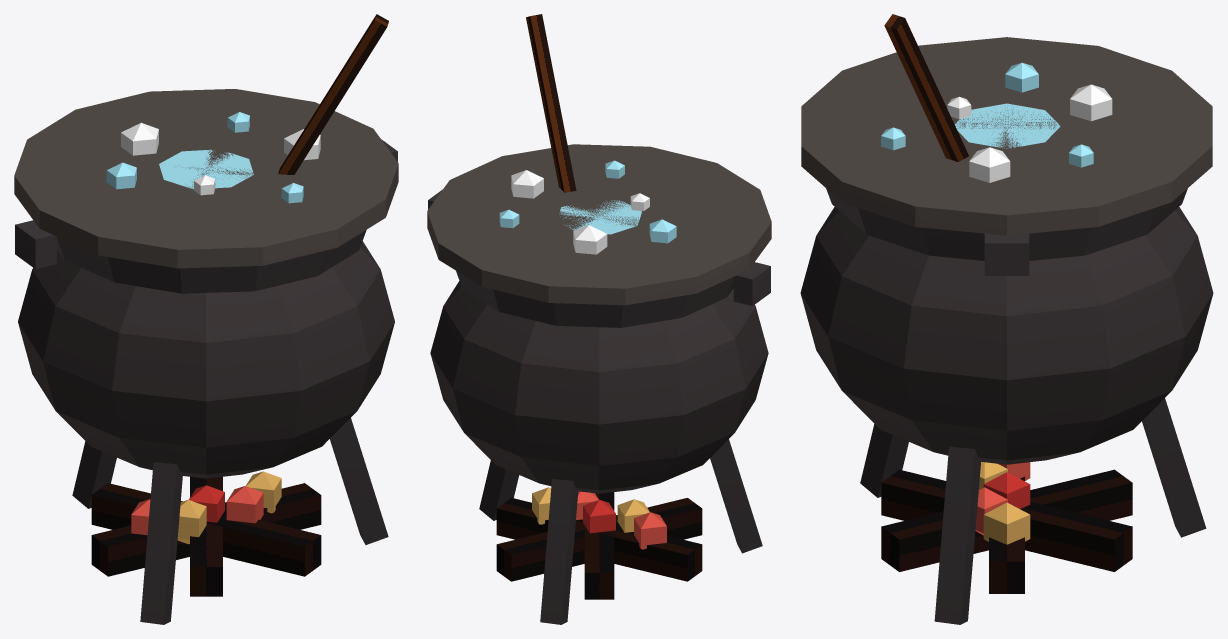
The model's file is cauldron_blue.glb.
The picture shows the model from 3 angles, left to right: view 1: azimuth 30°, elevation 25°; view 2: azimuth 150°, elevation 25°; view 3: azimuth 270°, elevation 25°; orthographic projection. The views are drawn at different scales.
Visible parts, largest first — view 1: cauldron_blue; view 2: cauldron_blue; view 3: cauldron_blue.
Boxes of the visible parts, bbox=[...] form: cauldron_blue: bbox=[14, 14, 398, 624]; cauldron_blue: bbox=[427, 14, 771, 624]; cauldron_blue: bbox=[800, 14, 1213, 624].
Bounding box in the file's own units: 1.02 × 1.47 × 0.92.
Materials: 3 (1 with a texture image).
